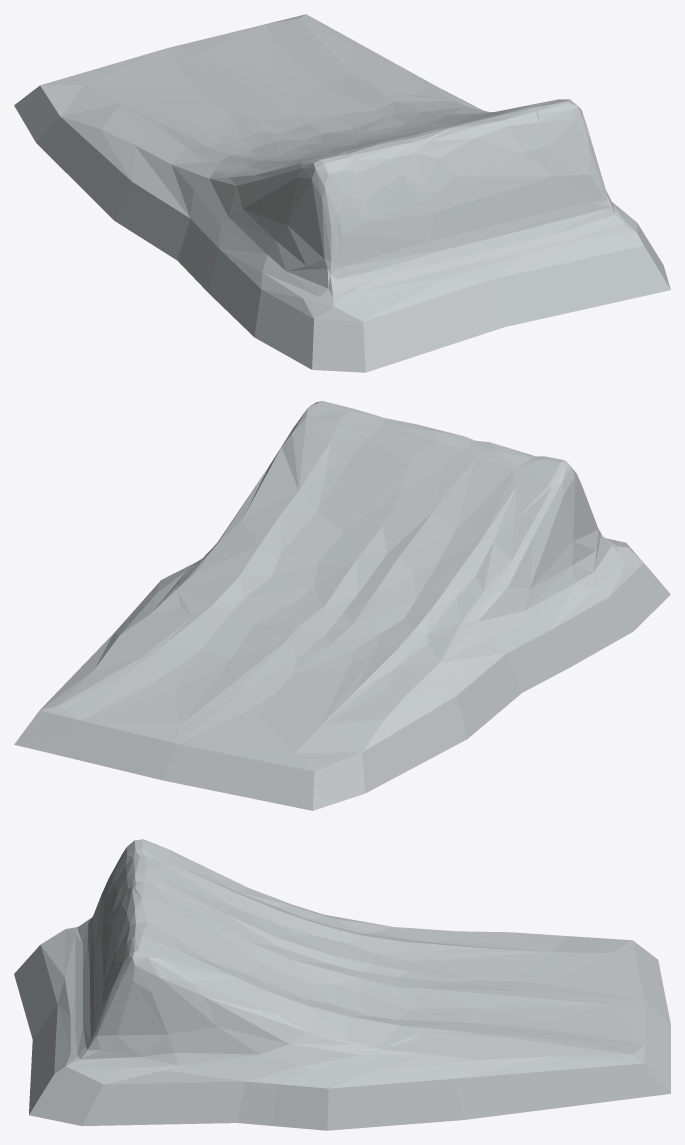
The model's file is SM_Prop_Ramp_02.glb.
3 renders of one model, top to bottom at view 1: azimuth 30°, elevation 25°; view 2: azimuth 150°, elevation 25°; view 3: azimuth 270°, elevation 25°, orthographic. The views are drawn at different scales.
Visible parts, largest first — view 1: SM_Prop_Ramp_02; view 2: SM_Prop_Ramp_02; view 3: SM_Prop_Ramp_02.
Boxes of the visible parts, x1,y1,x2,y2 form: SM_Prop_Ramp_02: [14, 14, 670, 372]; SM_Prop_Ramp_02: [14, 401, 670, 810]; SM_Prop_Ramp_02: [14, 839, 670, 1130].
Bounding box in the file's own units: 4.32 × 1.67 × 6.8.
1 material, 1 textured.
